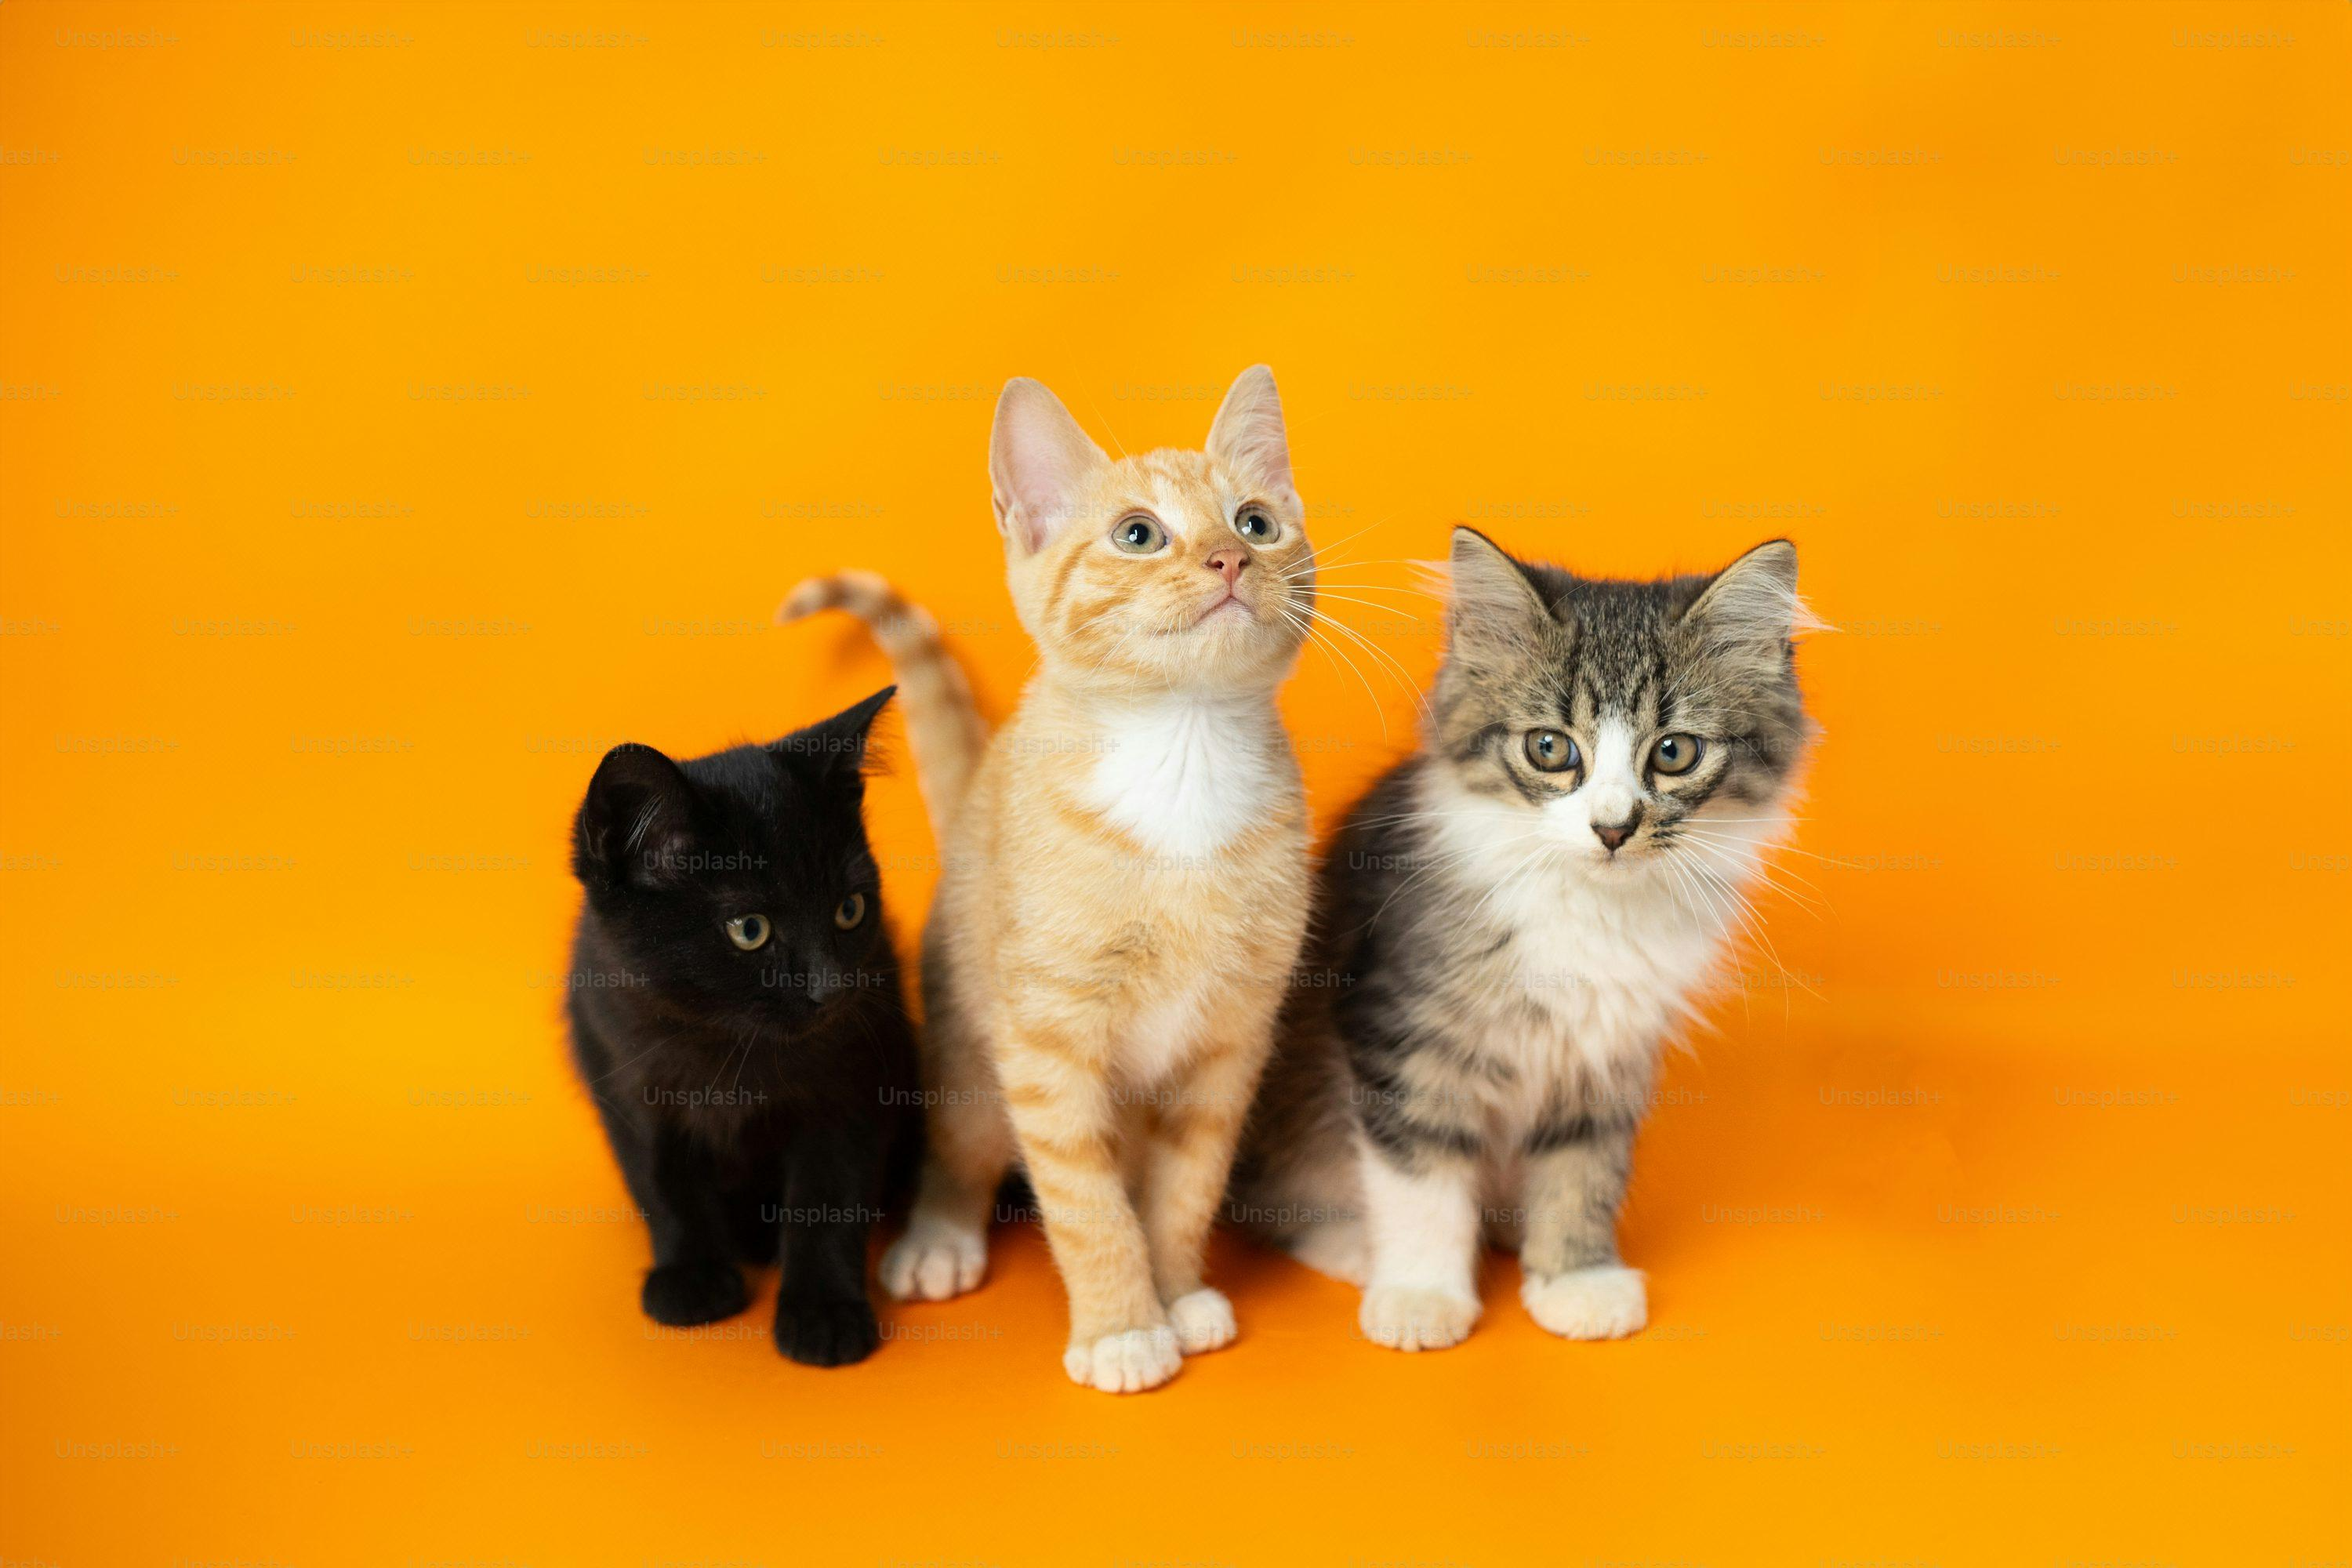cats: (865, 334, 1358, 1395), (1325, 502, 1858, 1393), (560, 684, 940, 1374)
